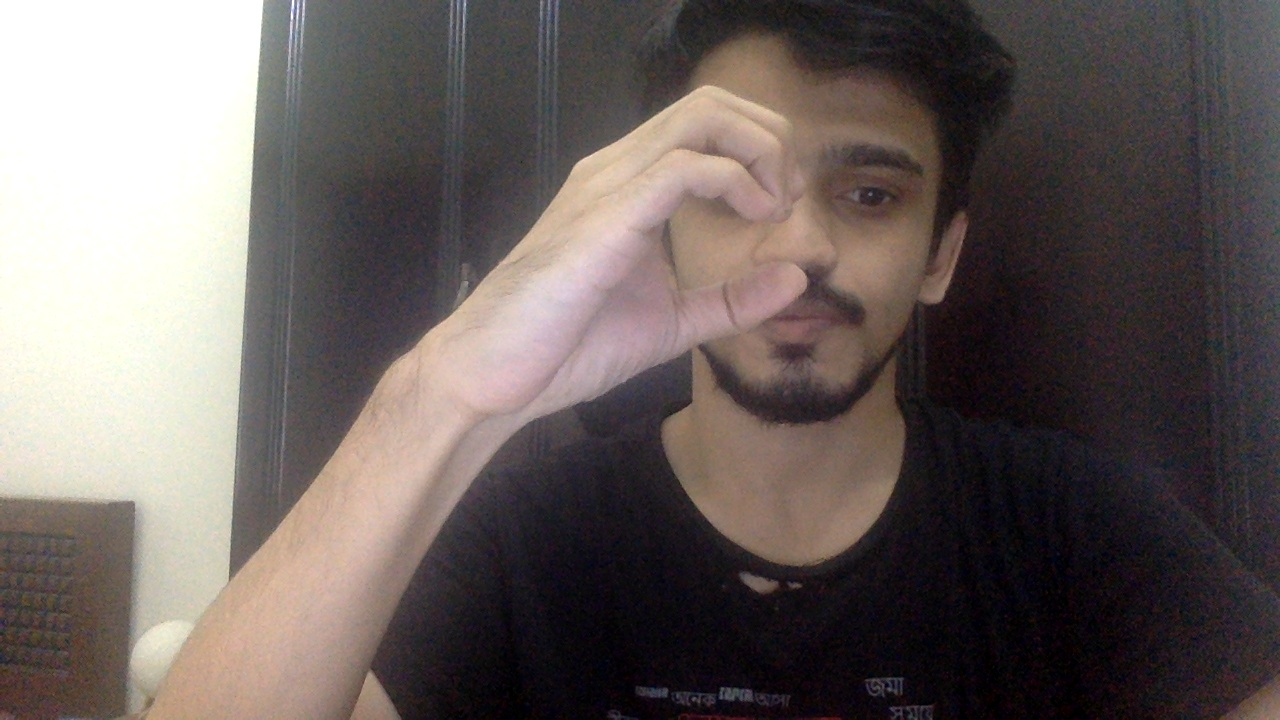zero: (425, 82, 809, 423)
